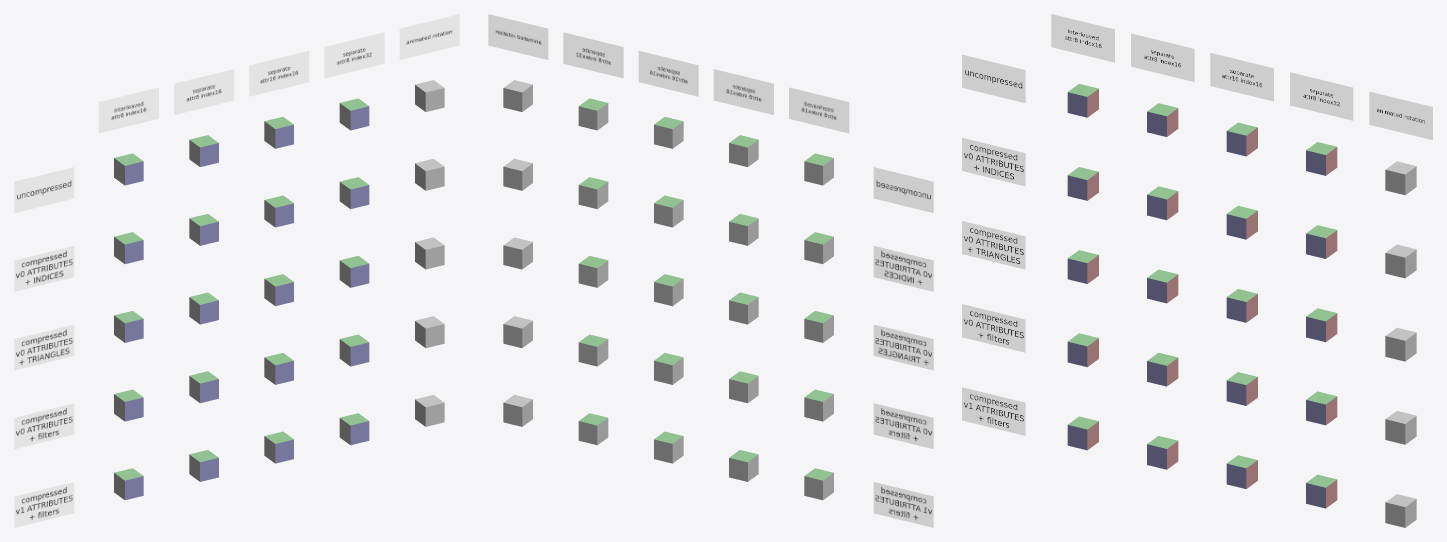
3 renders of one model, left to right at view 1: azimuth 30°, elevation 25°; view 2: azimuth 150°, elevation 25°; view 3: azimuth 330°, elevation 25°, orthographic. The views are drawn at different scales.
Parts seen in each view (by area): view 1: RowLabel_0, RowLabel_3, RowLabel_4, ColLabel_0, ColLabel_3, ColLabel_4, ColLabel_1, RowLabel_1, RowLabel_2, ColLabel_2, Cube_3_deinterleaved_u8norm_u8color_u32index, Cube_23_deinterleaved_u8norm_u8color_u32index_compressed_fil (+23 smaller); view 2: RowLabel_0, RowLabel_3, RowLabel_4, ColLabel_0, ColLabel_3, ColLabel_4, ColLabel_1, RowLabel_1, RowLabel_2, ColLabel_2, Cube_3_deinterleaved_u8norm_u8color_u32index, Cube_23_deinterleaved_u8norm_u8color_u32index_compressed_fil (+23 smaller); view 3: RowLabel_1, RowLabel_4, ColLabel_2, RowLabel_2, ColLabel_0, ColLabel_1, ColLabel_3, ColLabel_4, RowLabel_0, RowLabel_3, Cube_5_interleaved_u8norm_u8color_u16index_compressed_indice, Cube_6_deinterleaved_u8norm_u8color_u16index_compressed_indi (+23 smaller).
Boxes of the visible parts, bbox=[...] form: RowLabel_0: bbox=[14, 167, 74, 212]; RowLabel_3: bbox=[14, 403, 74, 448]; RowLabel_4: bbox=[14, 482, 74, 527]; ColLabel_0: bbox=[98, 87, 158, 133]; ColLabel_3: bbox=[324, 32, 384, 78]; ColLabel_4: bbox=[399, 14, 459, 59]; ColLabel_1: bbox=[174, 69, 234, 114]; RowLabel_1: bbox=[14, 246, 74, 291]; RowLabel_2: bbox=[14, 324, 74, 370]; ColLabel_2: bbox=[249, 51, 309, 96]; Cube_3_deinterleaved_u8norm_u8color_u32index: bbox=[339, 98, 369, 130]; Cube_23_deinterleaved_u8norm_u8color_u32index_compressed_fil: bbox=[339, 413, 369, 445]; RowLabel_0: bbox=[873, 167, 933, 212]; RowLabel_3: bbox=[873, 403, 933, 448]; RowLabel_4: bbox=[873, 482, 933, 527]; ColLabel_0: bbox=[789, 87, 849, 133]; ColLabel_3: bbox=[563, 32, 623, 78]; ColLabel_4: bbox=[488, 14, 548, 59]; ColLabel_1: bbox=[713, 69, 773, 114]; RowLabel_1: bbox=[873, 246, 933, 291]; RowLabel_2: bbox=[873, 324, 933, 370]; ColLabel_2: bbox=[638, 51, 698, 96]; Cube_3_deinterleaved_u8norm_u8color_u32index: bbox=[578, 98, 608, 130]; Cube_23_deinterleaved_u8norm_u8color_u32index_compressed_fil: bbox=[578, 413, 608, 445]; RowLabel_1: bbox=[962, 137, 1025, 186]; RowLabel_4: bbox=[962, 387, 1025, 435]; ColLabel_2: bbox=[1210, 53, 1273, 101]; RowLabel_2: bbox=[962, 221, 1025, 269]; ColLabel_0: bbox=[1051, 14, 1114, 62]; ColLabel_1: bbox=[1131, 33, 1194, 81]; ColLabel_3: bbox=[1290, 72, 1353, 120]; ColLabel_4: bbox=[1369, 91, 1432, 140]; RowLabel_0: bbox=[962, 54, 1025, 103]; RowLabel_3: bbox=[962, 304, 1025, 352]; Cube_5_interleaved_u8norm_u8color_u16index_compressed_indice: bbox=[1067, 167, 1098, 200]; Cube_6_deinterleaved_u8norm_u8color_u16index_compressed_indi: bbox=[1147, 186, 1178, 220].
Size of the model in its own units: 23.7 by 20.6 by 1.
Materials: 10 (10 with a texture image).
